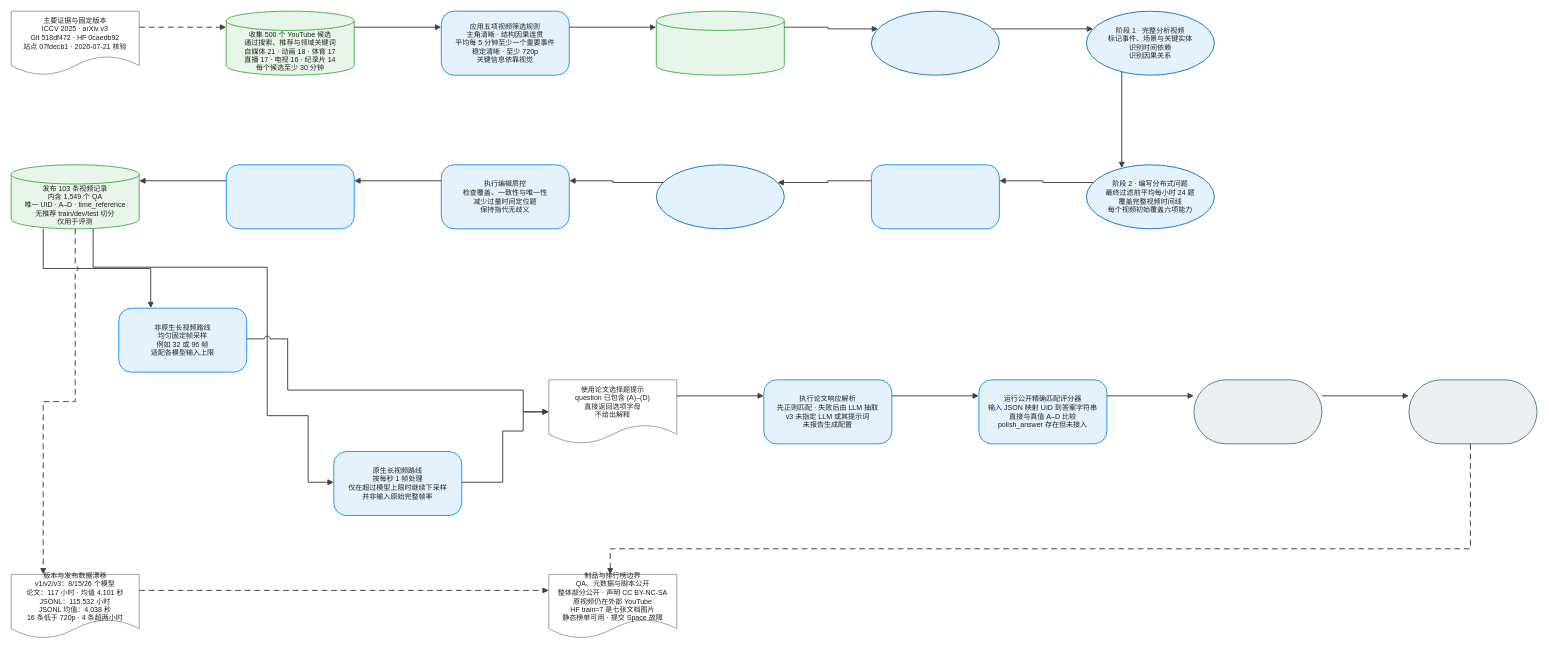
This 1549x650 diagram has some shape labels left out. The shapes that lost their labels are listed below. From the top down, each one's centre as x and y in pixels, then its label:
At point (720, 42): "论文报告的视频集 103 个视频 · 117 小时 平均时长 4,101 秒 六类但非均衡 · 不含音频".
At point (935, 42): "专业标注设置 雇佣标注员 · 全片标注平台 人工检查质量与有害内容 每个视频平均报酬 30 美元".
At point (289, 196): "门控纯文本可回答题目 GLM-4 与 GPT-4 独立作答 答案相同且正确时删除 论文未报告删除数量".
At point (720, 196): "阶段 3 · 构造选项与线索 1 个正确项 · 3 个可信干扰项 对齐选项格式与长度 标注最小精确起止片段".
At point (935, 196): "分配多标签能力 TG · Sum · Rea · ER · EU · KIR 使用具体且唯一的指代 发布物包含 26 种规范组合".
At point (1257, 411): "计算总体与六项能力分数 总体分母为已提交的已知 UID 多标签题进入每个对应分母 完整提交时分母才为 1,549".
At point (1472, 411): "发布 Overall · ER · EU · KIR 发布 TG · Rea · Sum result.json 保存 0–1 小数 排行榜显示百分比".
